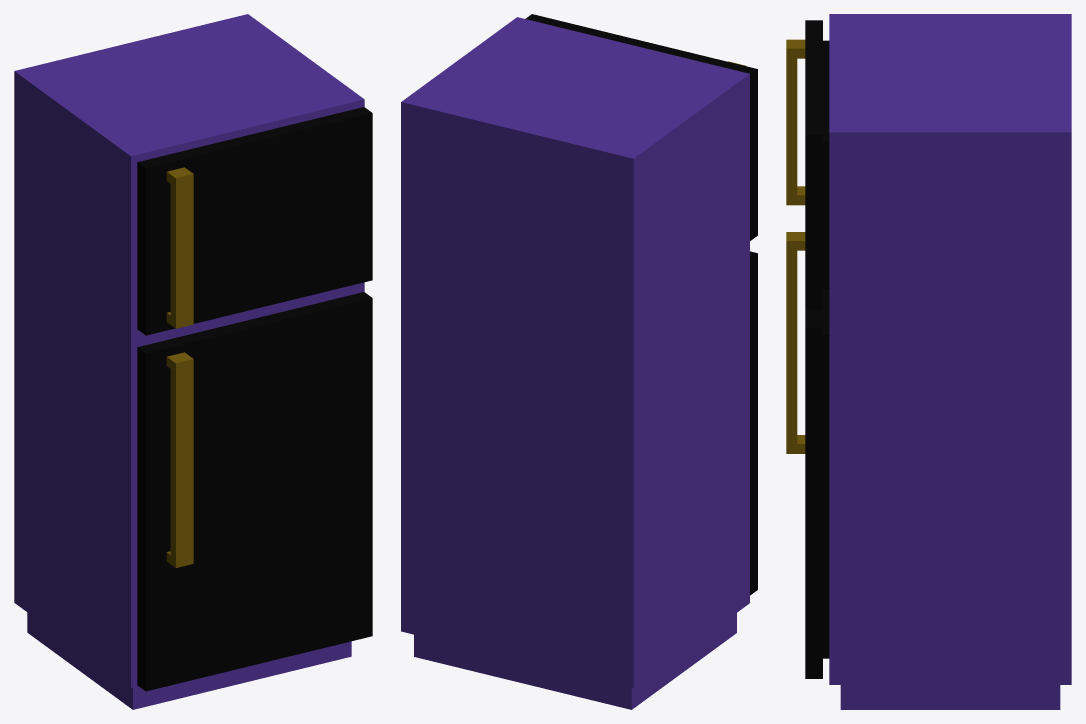
Rendered from fridge.fbx.
3 views of the same model, side by side, from view 1: azimuth 30°, elevation 25°; view 2: azimuth 150°, elevation 25°; view 3: azimuth 270°, elevation 25° (orthographic). The views are drawn at different scales.
Parts seen in each view (by area): view 1: fridge; view 2: fridge; view 3: fridge.
Part boxes in pixels (<box>): fridge: <box>14,14,372,709</box>; fridge: <box>401,14,757,709</box>; fridge: <box>786,14,1071,709</box>.
Bounding box in the file's own units: 66.54 × 152 × 67.67.
